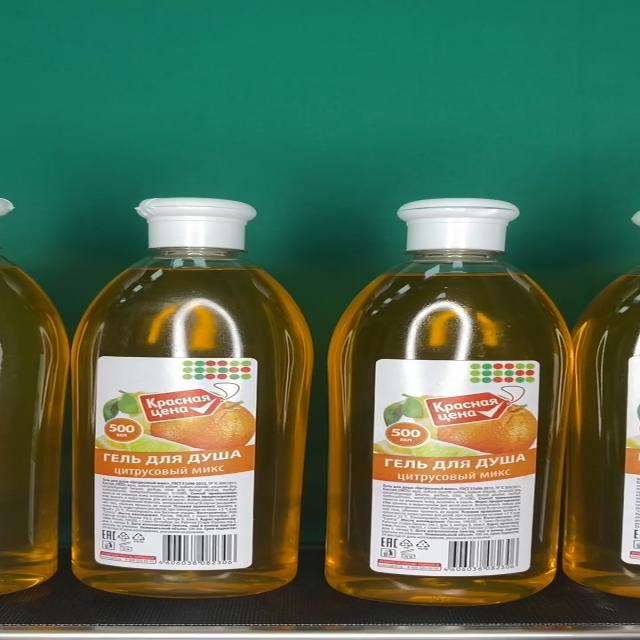Bottle: (326, 199, 576, 604), (70, 197, 316, 599)
Cap: (395, 198, 519, 252), (137, 198, 257, 249)
